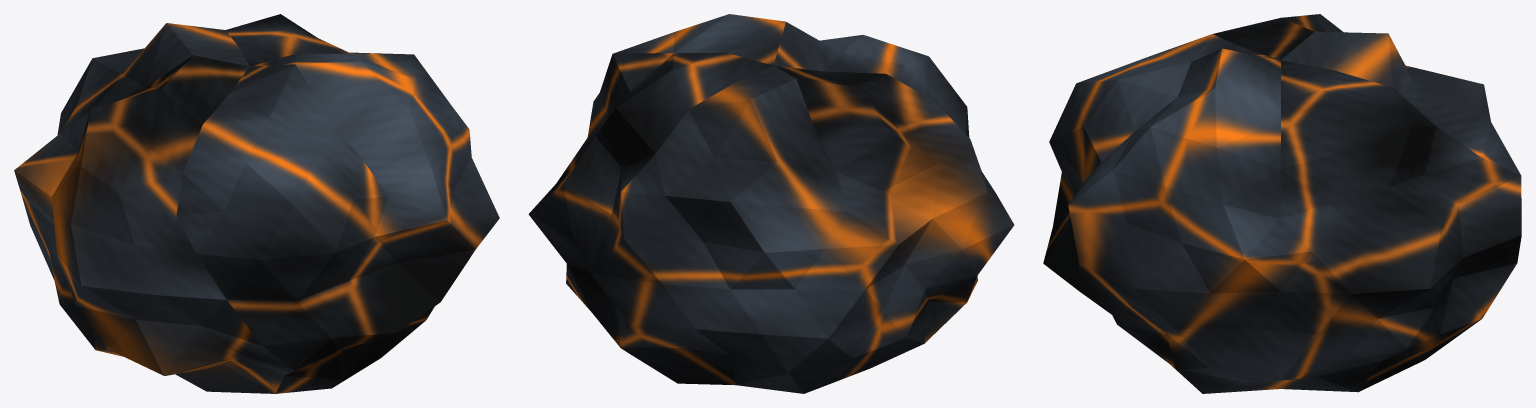
The model's file is ArcaneHelionOre.fbx.
3 renders of one model, left to right at view 1: azimuth 30°, elevation 25°; view 2: azimuth 150°, elevation 25°; view 3: azimuth 270°, elevation 25°, orthographic. The views are drawn at different scales.
Visible parts, largest first — view 1: Fractured mineral matrix.001; view 2: Fractured mineral matrix.001; view 3: Fractured mineral matrix.001.
Part boxes in pixels (bbox=[...]): Fractured mineral matrix.001: bbox=[14, 14, 499, 393]; Fractured mineral matrix.001: bbox=[528, 14, 1014, 393]; Fractured mineral matrix.001: bbox=[1043, 14, 1521, 393].
Size of the model in its own units: 0.3346 by 0.2451 by 0.3363.
